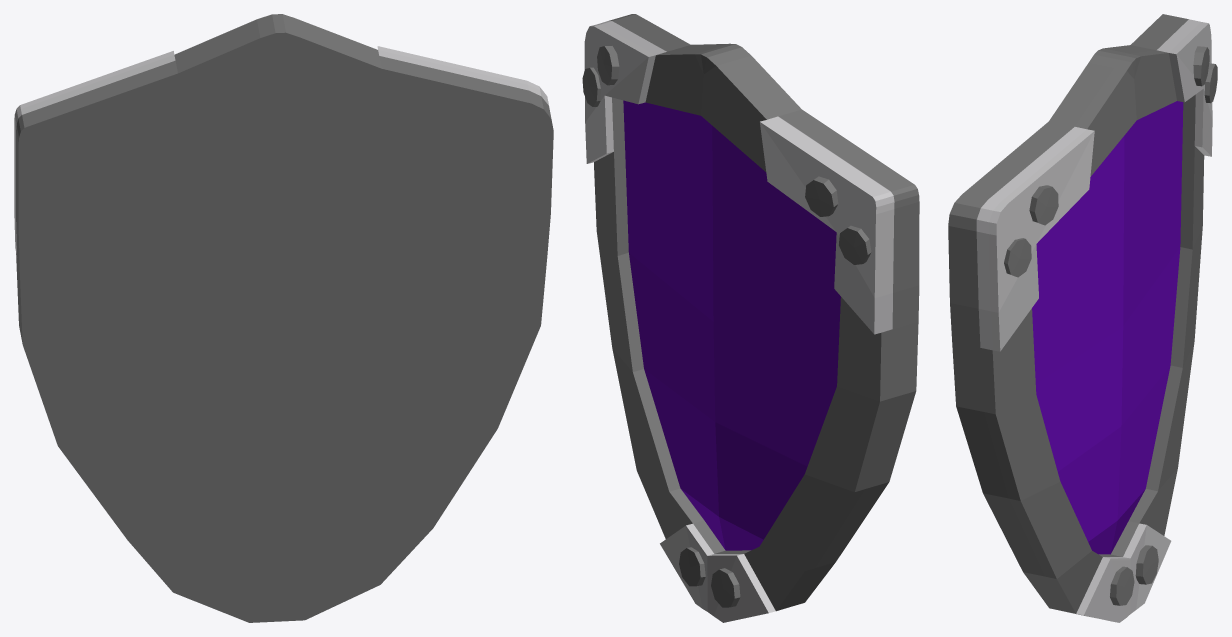
Rendered from kalkan.fbx.
The picture shows the model from 3 angles, left to right: view 1: azimuth 30°, elevation 25°; view 2: azimuth 150°, elevation 25°; view 3: azimuth 270°, elevation 25°; orthographic projection. The views are drawn at different scales.
Parts seen in each view (by area): view 1: Cube.001; view 2: Cube.001; view 3: Cube.001.
Boxes of the visible parts, x1=… form: Cube.001: x1=14, y1=14, x2=553, y2=622; Cube.001: x1=582, y1=14, x2=919, y2=622; Cube.001: x1=948, y1=14, x2=1217, y2=622.
Bounding box in the file's own units: 78.94 × 100 × 44.18.
Materials: 2 (2 with a texture image).
